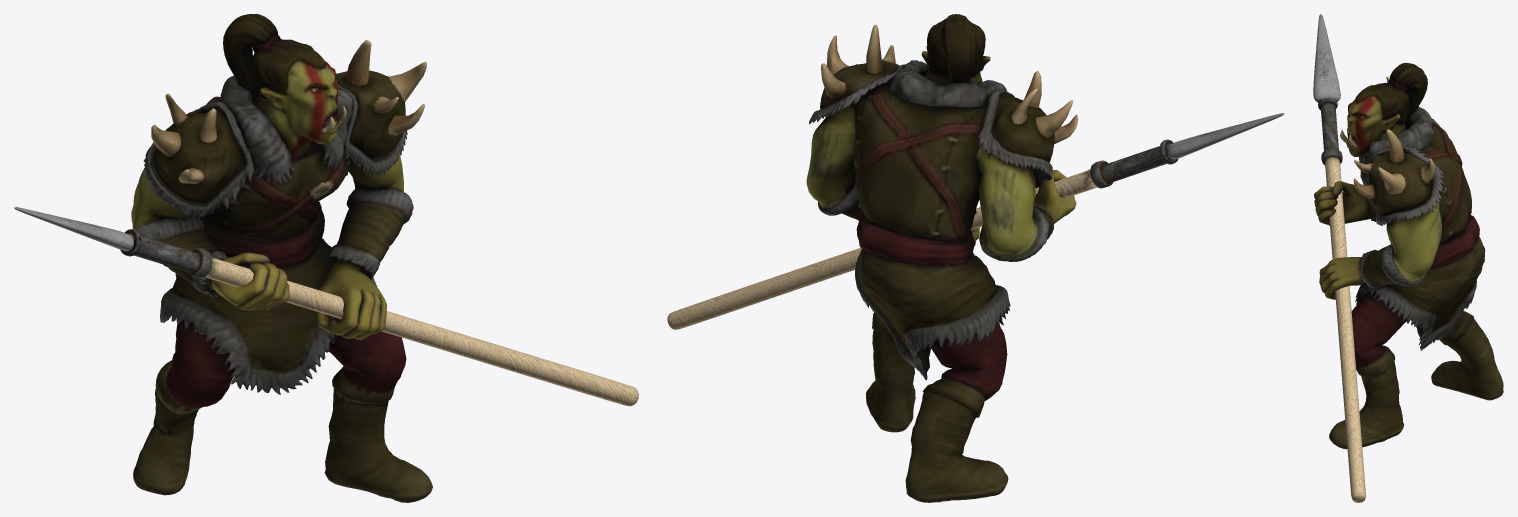
The model's file is MZ4250 - Orc Male Warrior_red_spear.glb.
The picture shows the model from 3 angles, left to right: view 1: azimuth 30°, elevation 25°; view 2: azimuth 150°, elevation 25°; view 3: azimuth 270°, elevation 25°; orthographic projection. The views are drawn at different scales.
Parts seen in each view (by area): view 1: Spear.001; view 2: Spear.001; view 3: Spear.001.
Boxes of the visible parts, x1,y1,x2,y2 form: Spear.001: (14,14,638,502); Spear.001: (667,14,1284,502); Spear.001: (1313,14,1503,502).
Bounding box in the file's own units: 55.5 × 39.09 × 19.79.
2 materials, 2 textured.
